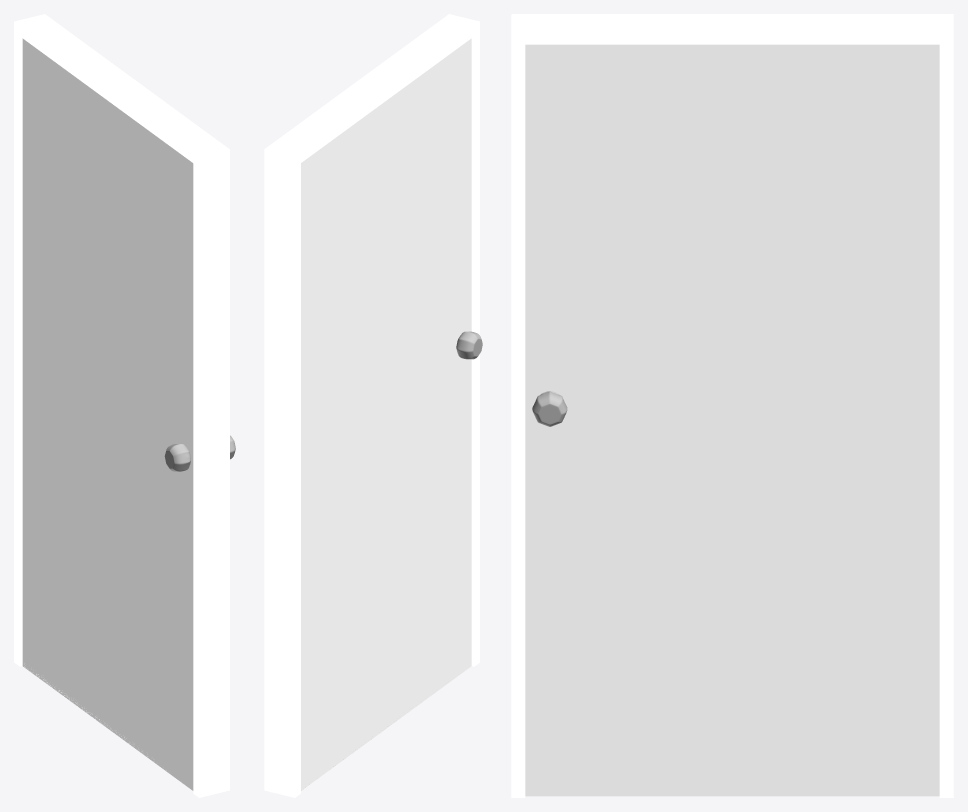
The model's file is standard_walkinOld.e5be5449.gltf.
The picture shows the model from 3 angles, left to right: view 1: azimuth 30°, elevation 25°; view 2: azimuth 150°, elevation 25°; view 3: azimuth 270°, elevation 25°; orthographic projection. The views are drawn at different scales.
Visible parts, largest first — view 1: Plane.001, trims, knob; view 2: Plane.001, trims, knob; view 3: Plane.001, trims, knob.001.
Boxes of the visible parts, left/top/right/bottom form: Plane.001: left=22, top=38, right=193, bottom=790; trims: left=14, top=14, right=229, bottom=797; knob: left=164, top=443, right=190, bottom=471; Plane.001: left=301, top=38, right=471, bottom=790; trims: left=264, top=14, right=479, bottom=797; knob: left=456, top=331, right=482, bottom=359; Plane.001: left=525, top=44, right=939, bottom=796; trims: left=511, top=14, right=953, bottom=797; knob.001: left=532, top=391, right=567, bottom=426.
Bounding box in the file's own units: 0.6063 × 6.01 × 3.14.
4 materials, 1 textured.
